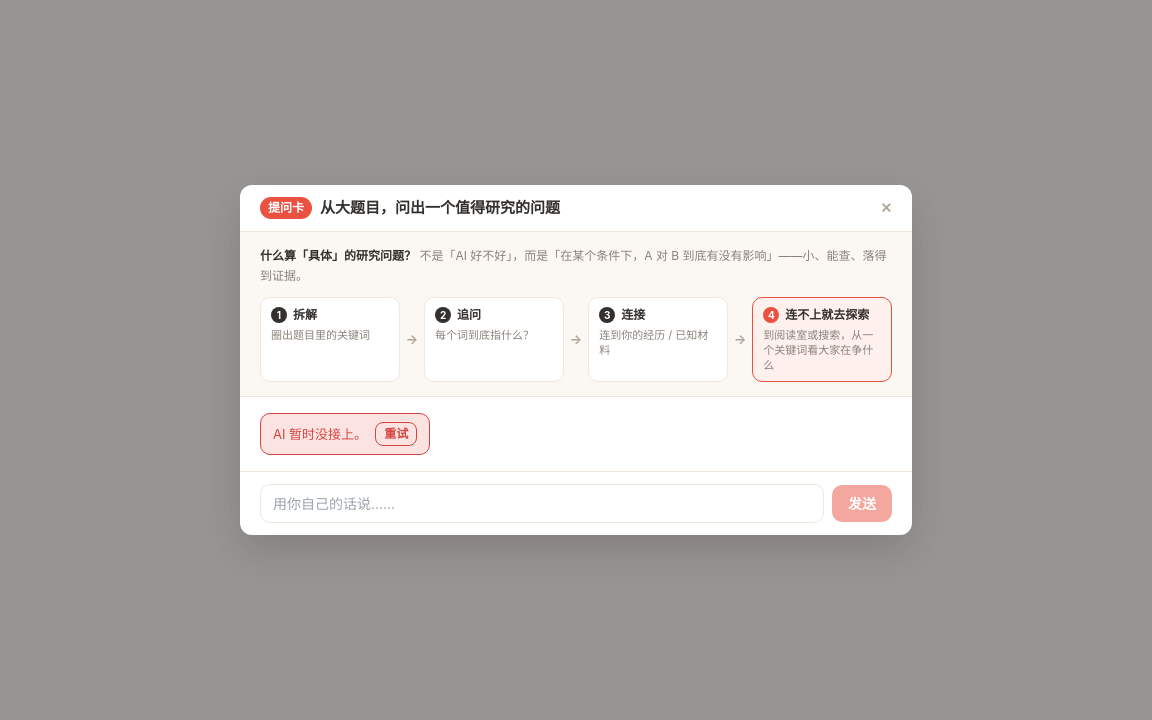
Test: QuestionCardModal › surfaces an honest error (no fabricated coach reply) and retries
This screenshot has width=1152, height=720.
Expected: the text "AI 暂时没接上。" is shown, [273,425,367,444]
Note: Retry recovers with the real reply.
Click the button "重试" at (396, 434), box [375,422,417,446]
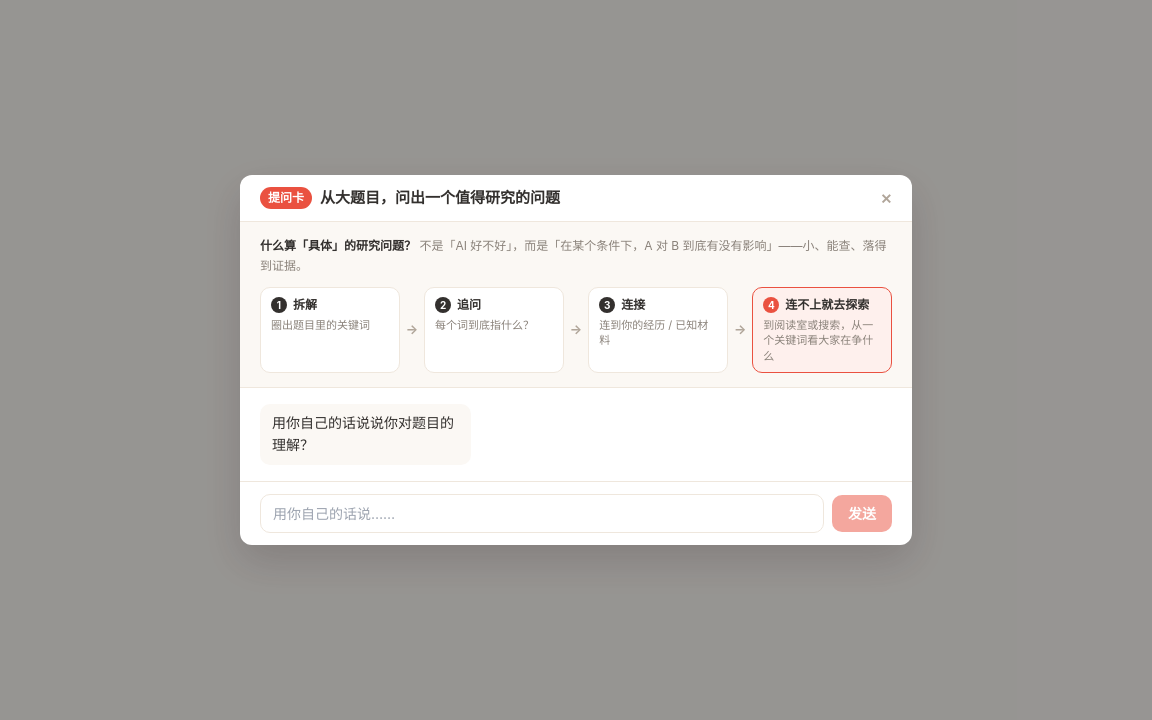
Result: the text "用你自己的话说说你对题目的理解？" is shown at [260,404,471,465]
Result: the text "AI 暂时没接上。" is gone
